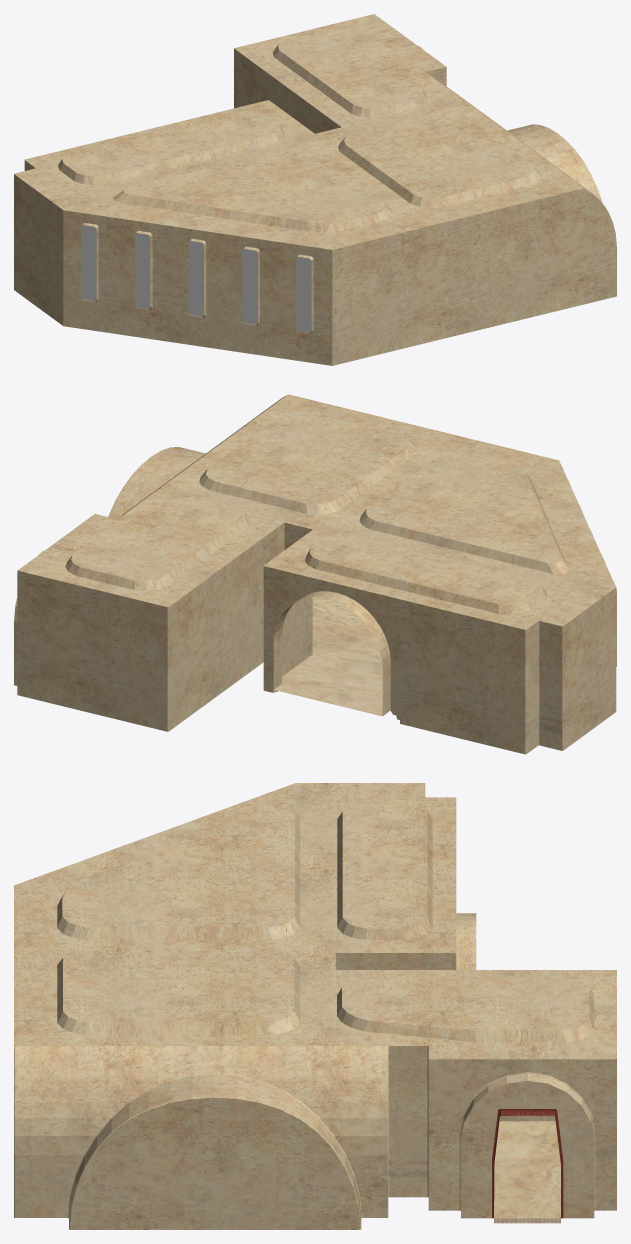
File: thm_tato_cantina_r12_private_room_mesh_r16.fbx
3 views of the same model, one above another, from view 1: azimuth 30°, elevation 25°; view 2: azimuth 150°, elevation 25°; view 3: azimuth 270°, elevation 25° (orthographic). The views are drawn at different scales.
Parts seen in each view (by area): view 1: mesh_node; view 2: mesh_node; view 3: mesh_node.
Part boxes in pixels (x1=…): mesh_node: x1=14, y1=14, x2=616, y2=365; mesh_node: x1=14, y1=394, x2=616, y2=754; mesh_node: x1=14, y1=783, x2=616, y2=1229.
Size of the model in its own units: 17.39 by 4.41 by 15.
